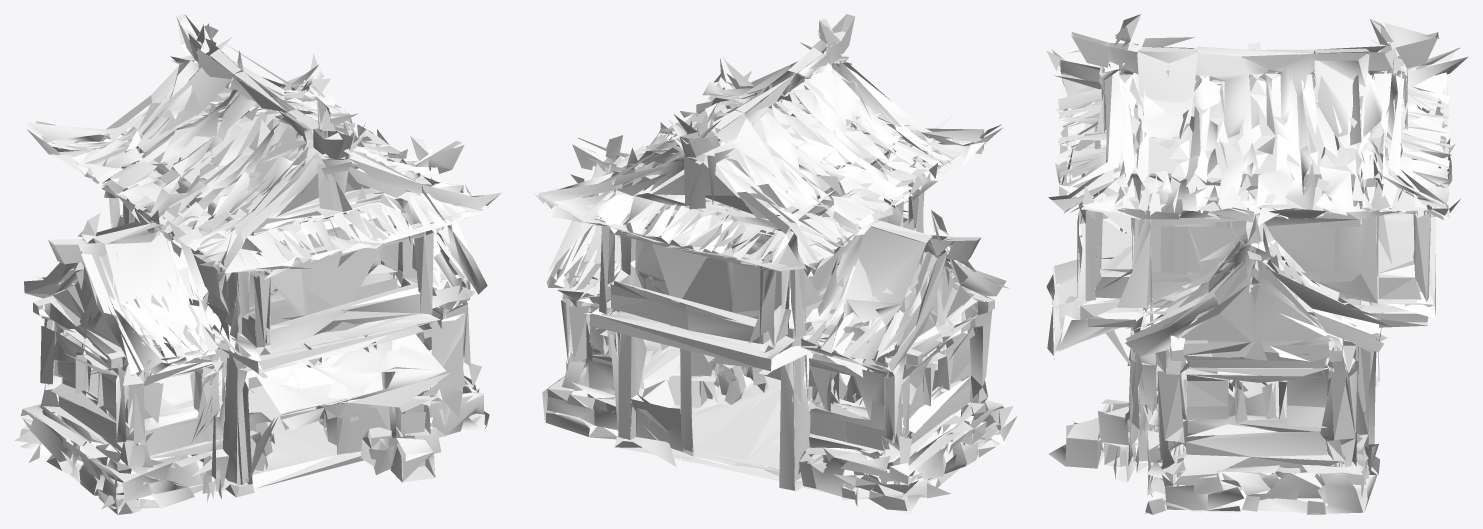
File: house_shop_a_lod1.glb
3 views of the same model, side by side, from view 1: azimuth 30°, elevation 25°; view 2: azimuth 150°, elevation 25°; view 3: azimuth 270°, elevation 25° (orthographic). The views are drawn at different scales.
Parts seen in each view (by area): view 1: house_shop_a; view 2: house_shop_a; view 3: house_shop_a.
Boxes of the visible parts, x1,y1,x2,y2 form: house_shop_a: (15,14,502,514); house_shop_a: (531,14,1017,514); house_shop_a: (1046,14,1467,514).
Size of the model in its own units: 10.22 by 9.12 by 8.41.
Materials: 1 (1 with a texture image).
